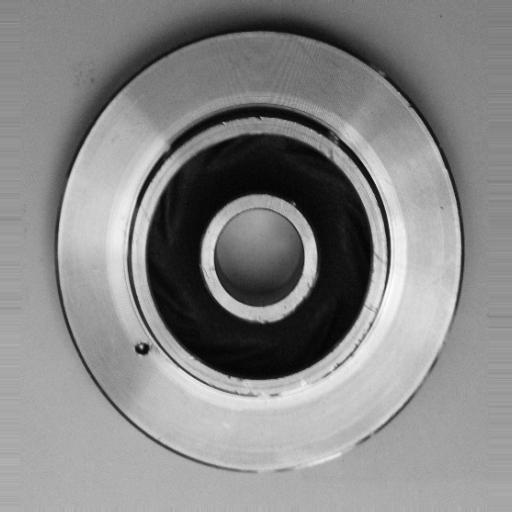pit: (125, 333, 157, 364)
scratch: (242, 367, 354, 410)
unpolished_casting: (55, 25, 466, 478)
